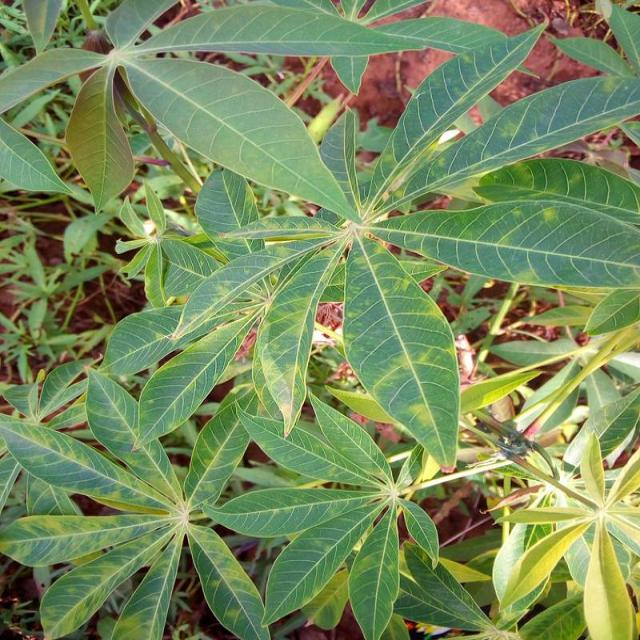cassava leaf: (1, 1, 638, 638), (341, 232, 461, 472)
